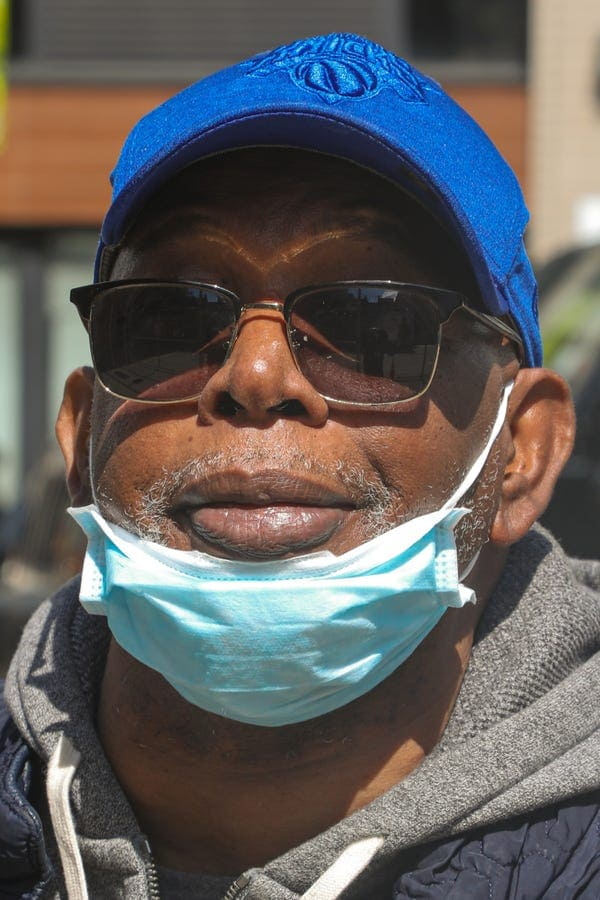with_incorrect_mask: (82, 153, 508, 723)
